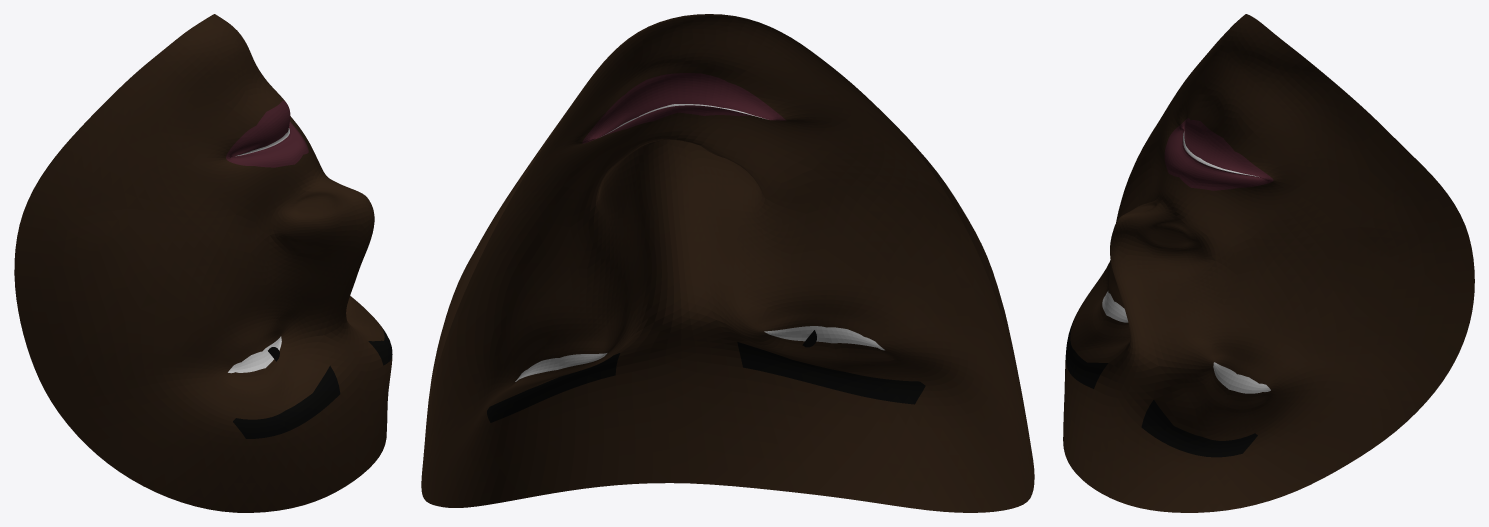
File: VID-20250515-WA0001_f_00195.obj
3 views of the same model, side by side, from view 1: azimuth 30°, elevation 25°; view 2: azimuth 150°, elevation 25°; view 3: azimuth 270°, elevation 25° (orthographic). The views are drawn at different scales.
Parts seen in each view (by area): view 1: face_mesh_subdivided; view 2: face_mesh_subdivided; view 3: face_mesh_subdivided.
Part boxes in pixels (x1,y1,x2,y2): face_mesh_subdivided: [14, 14, 392, 512]; face_mesh_subdivided: [421, 14, 1034, 512]; face_mesh_subdivided: [1063, 14, 1474, 512].
Size of the model in its own units: 0.47 by 0.5098 by 0.4489.
